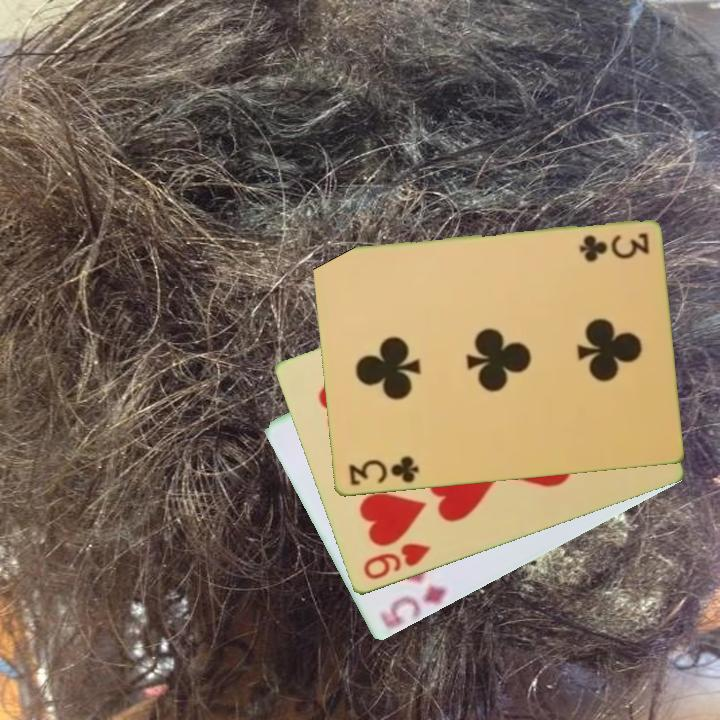3c: (345, 453, 422, 489), (575, 229, 652, 262)
5d: (379, 582, 451, 626)
9h: (359, 540, 433, 584)
